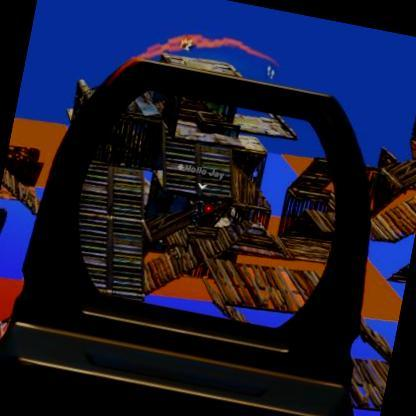person: (186, 197, 208, 230)
